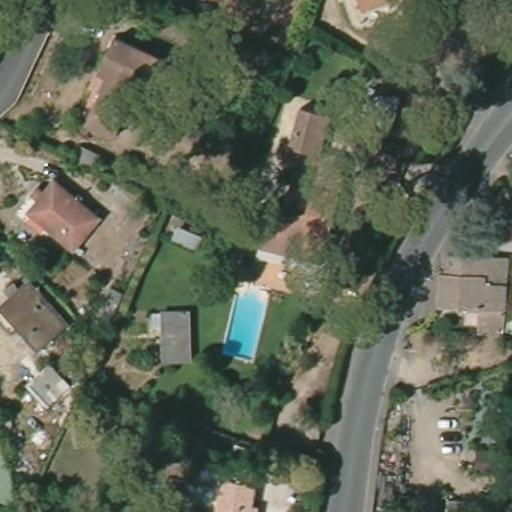pool: (225, 285, 274, 364)
